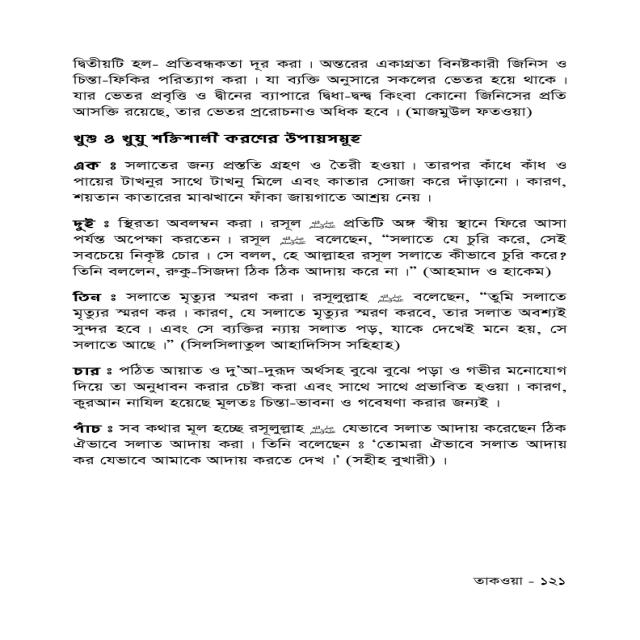page number: (533, 574, 571, 590)
paragraph: (57, 206, 582, 280), (64, 50, 578, 123), (64, 290, 574, 351), (57, 152, 586, 205), (60, 420, 580, 469), (64, 361, 576, 410)
text: (471, 574, 527, 588)
title: (64, 128, 370, 153)
